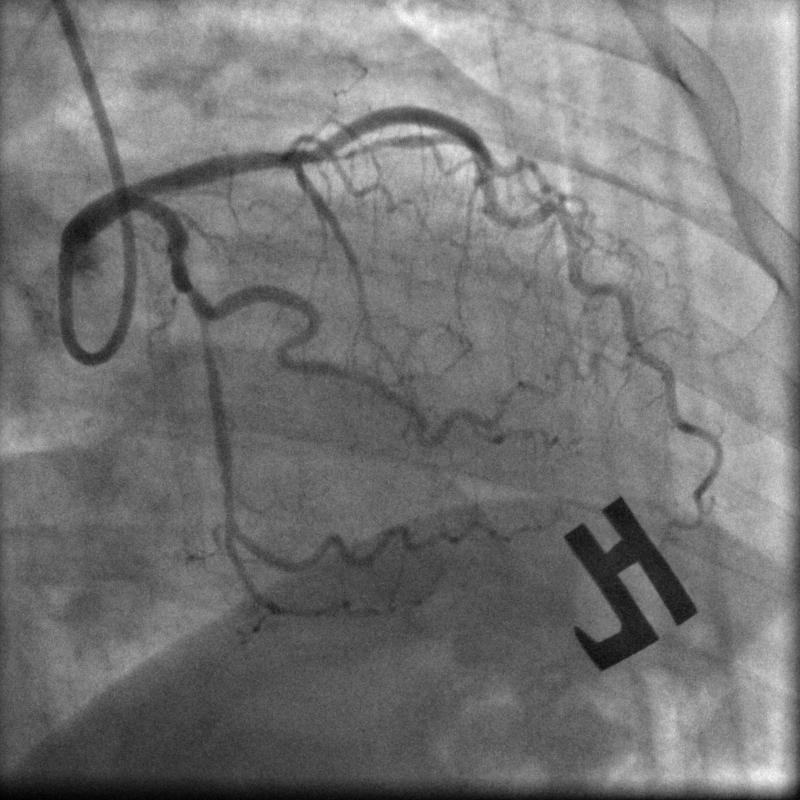Stenosis: (162, 233, 206, 309)
